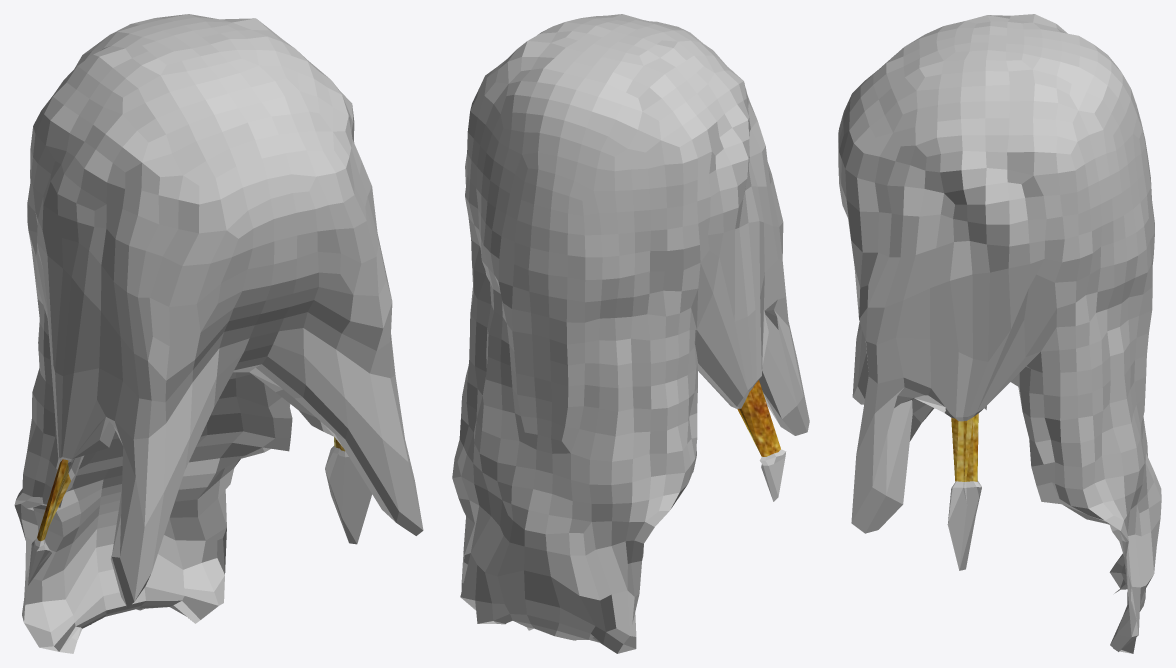
The model's file is hair.obj.
The picture shows the model from 3 angles, left to right: view 1: azimuth 30°, elevation 25°; view 2: azimuth 150°, elevation 25°; view 3: azimuth 270°, elevation 25°; orthographic projection. The views are drawn at different scales.
Visible parts, largest first — view 1: Sphere.001_Sphere.002; view 2: Sphere.001_Sphere.002; view 3: Sphere.001_Sphere.002.
Boxes of the visible parts, left/top/right/bottom form: Sphere.001_Sphere.002: left=14, top=14, right=423, bottom=653; Sphere.001_Sphere.002: left=452, top=14, right=809, bottom=653; Sphere.001_Sphere.002: left=838, top=14, right=1161, bottom=653.
Bounding box in the file's own units: 0.6438 × 1.21 × 0.6062.
Materials: 2 (1 with a texture image).
